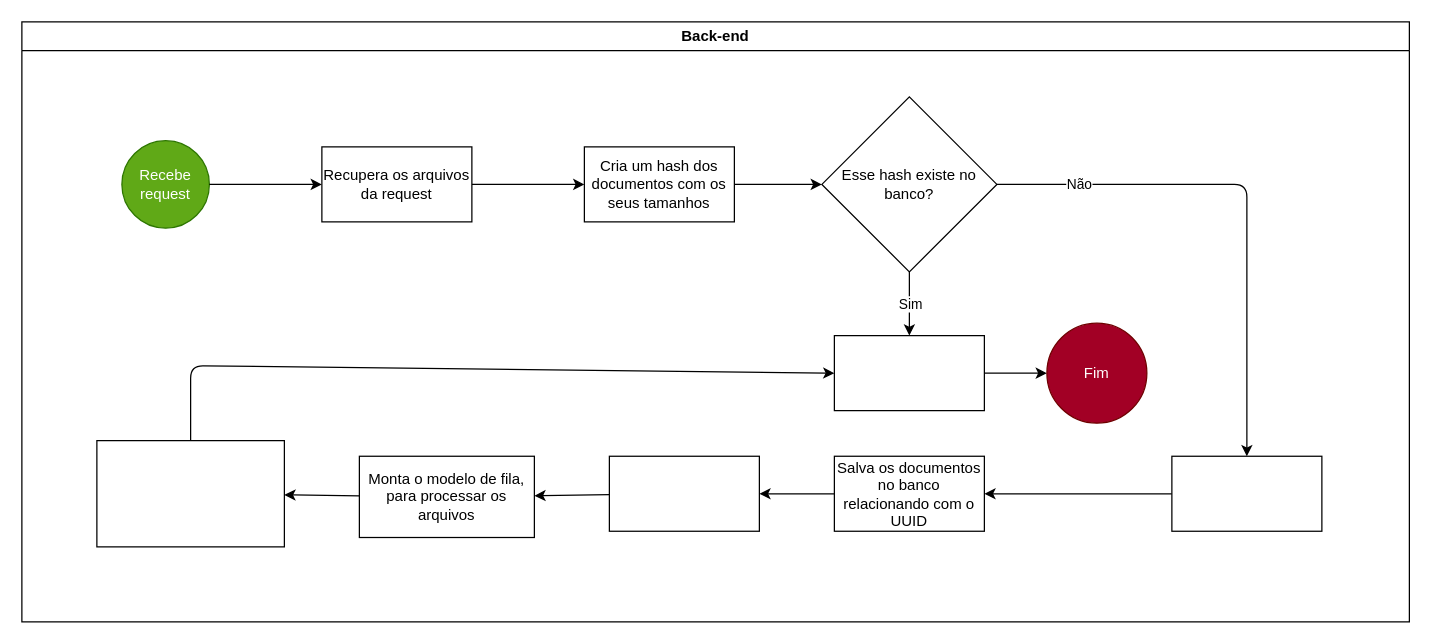
Image size: 1431x644. Some labels were removed from this diagram. The shapes that lost their labels are listed below. From the top down, each one's box as (x1, y1, x2, y2) in pixels, then its label:
(833, 334, 984, 411): Retorna o UUID do arquivo de resultado
(96, 439, 284, 547): Adiciona o modelo na fila, com os UUID's dos arquivos que devem ser trabalhados
(608, 455, 759, 531): Salva o Hash no banco de dados
(1171, 455, 1322, 531): Cria um UUID para o documento de resultado
